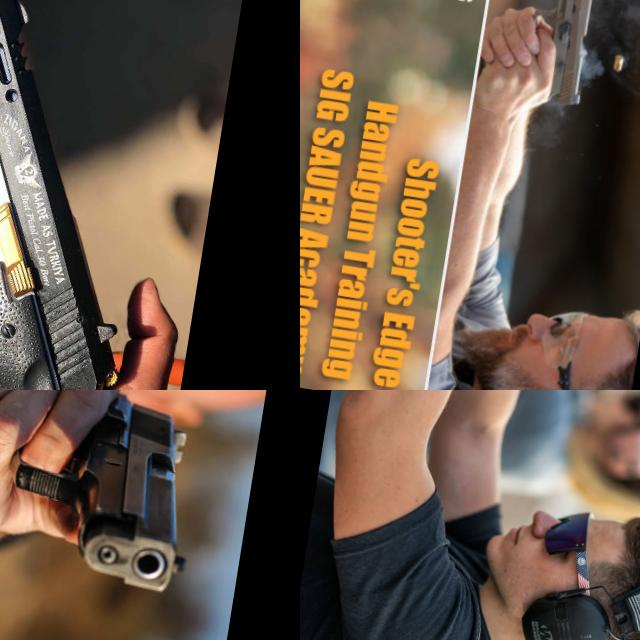handgun: (0, 0, 187, 390), (0, 390, 215, 605), (300, 153, 362, 365), (516, 0, 606, 115), (542, 390, 627, 462)
